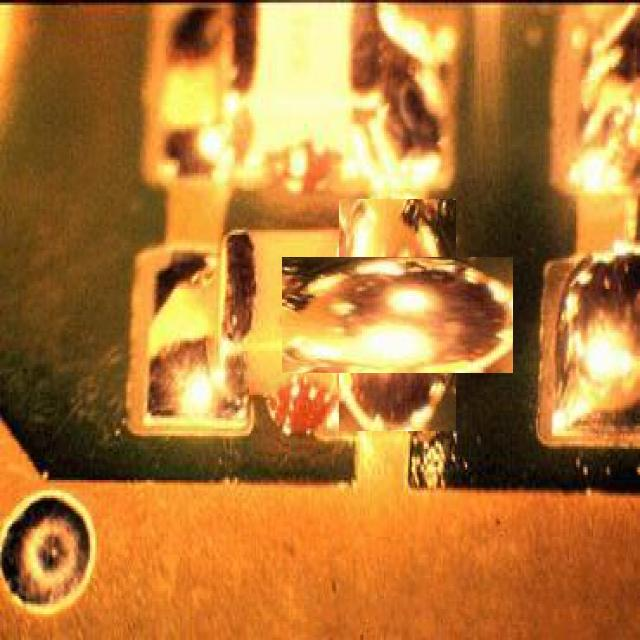redundant: (282, 257, 513, 373)
